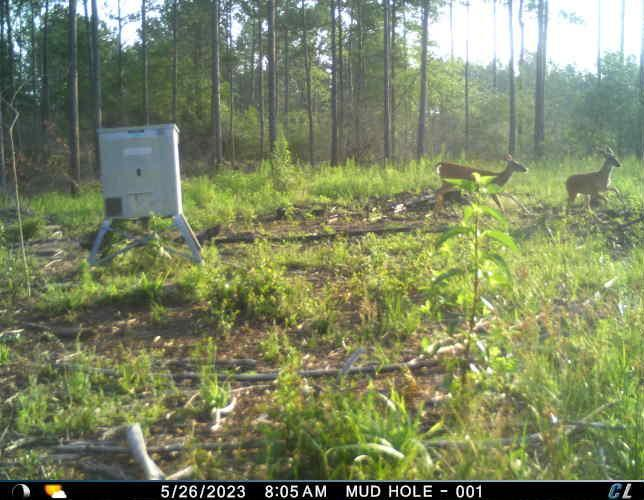Deer: (426, 151, 529, 217), (563, 144, 624, 213)
